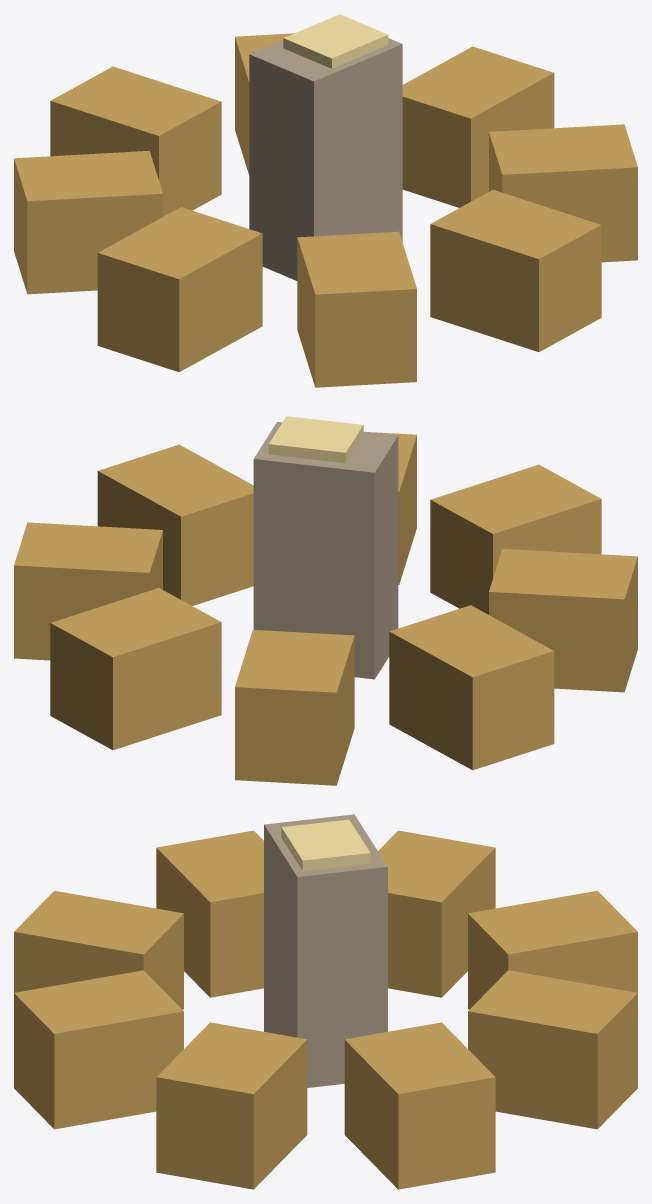
Rendered from sand-g0.glb.
3 views of the same model, one above another, from view 1: azimuth 30°, elevation 25°; view 2: azimuth 150°, elevation 25°; view 3: azimuth 270°, elevation 25° (orthographic). The views are drawn at different scales.
Visible parts, largest first — view 1: sand-g0; view 2: sand-g0; view 3: sand-g0.
Part boxes in pixels (x1,y1,x2,y2): sand-g0: (14, 14, 637, 387); sand-g0: (14, 416, 637, 785); sand-g0: (14, 814, 637, 1189).
Size of the model in its own units: 1.07 by 0.42 by 1.07.
